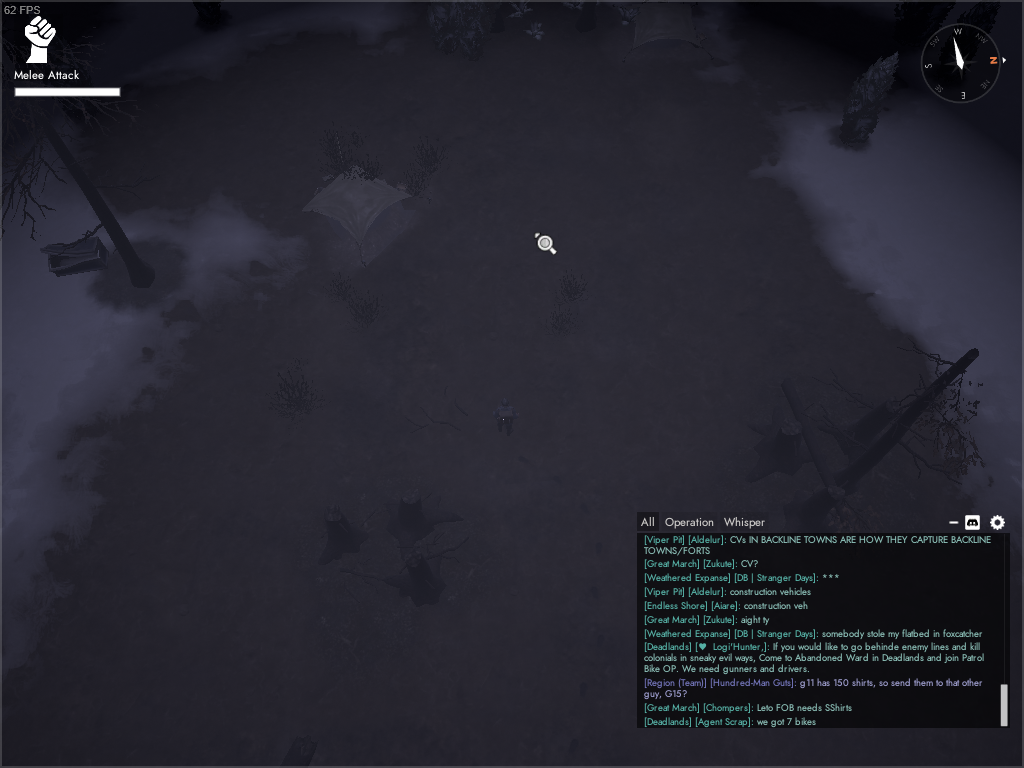foxhole: (254, 117, 438, 271), (615, 1, 729, 74)
player: (491, 396, 521, 438)
storage_box: (40, 235, 112, 280)
